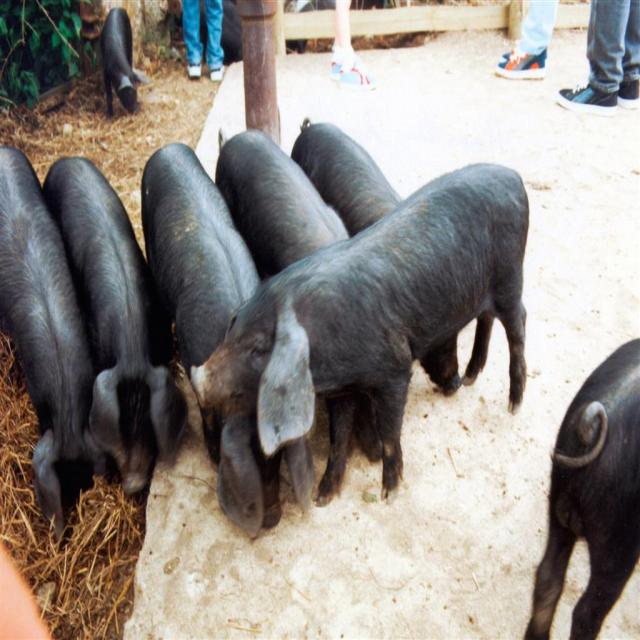Pig: (0, 115, 529, 549), (524, 335, 640, 639), (98, 4, 150, 121)
